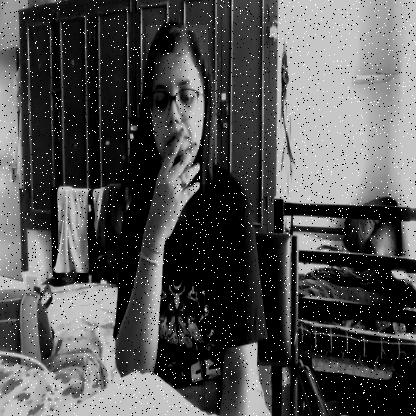Normal: (146, 25, 208, 184)
